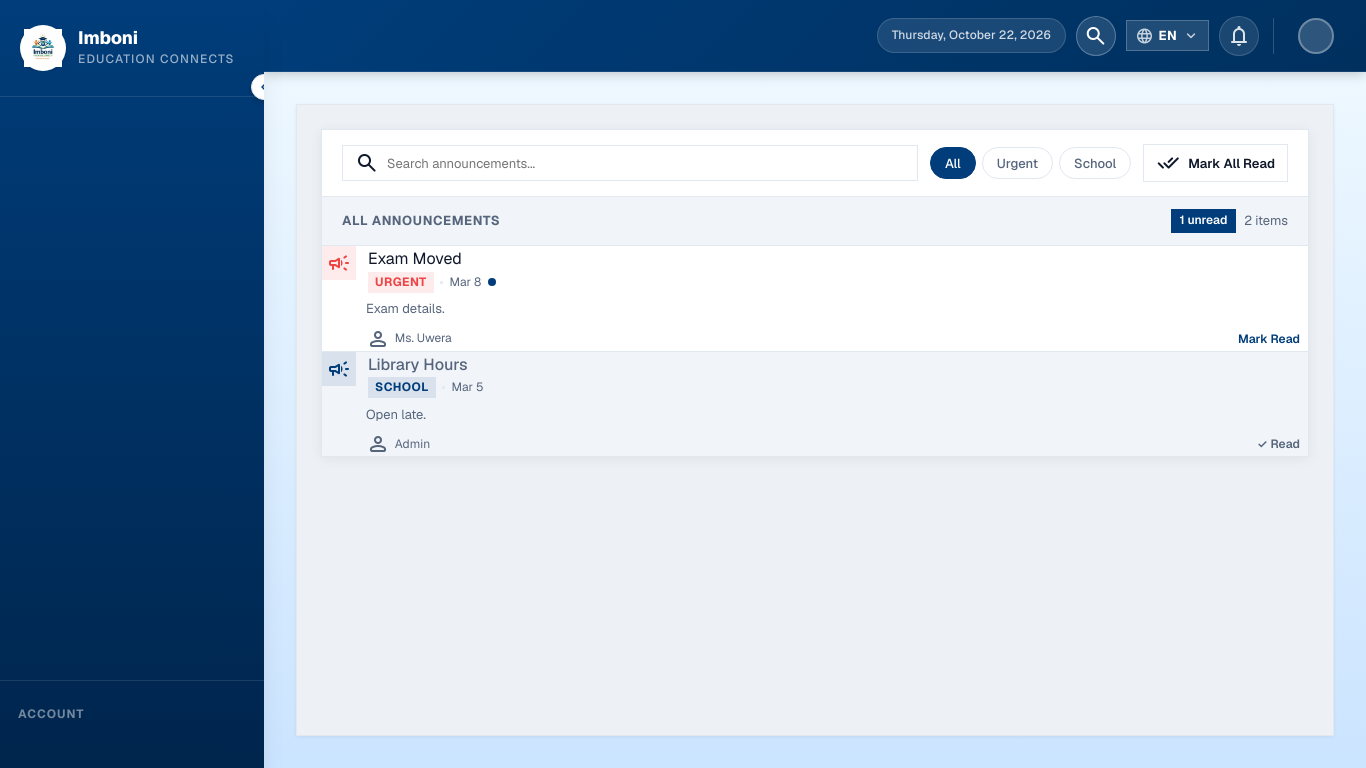
AnnouncementFeed › filters by chip
The image size is (1366, 768).
Click the button "Urgent" at (1017, 163), box [982, 147, 1053, 179]
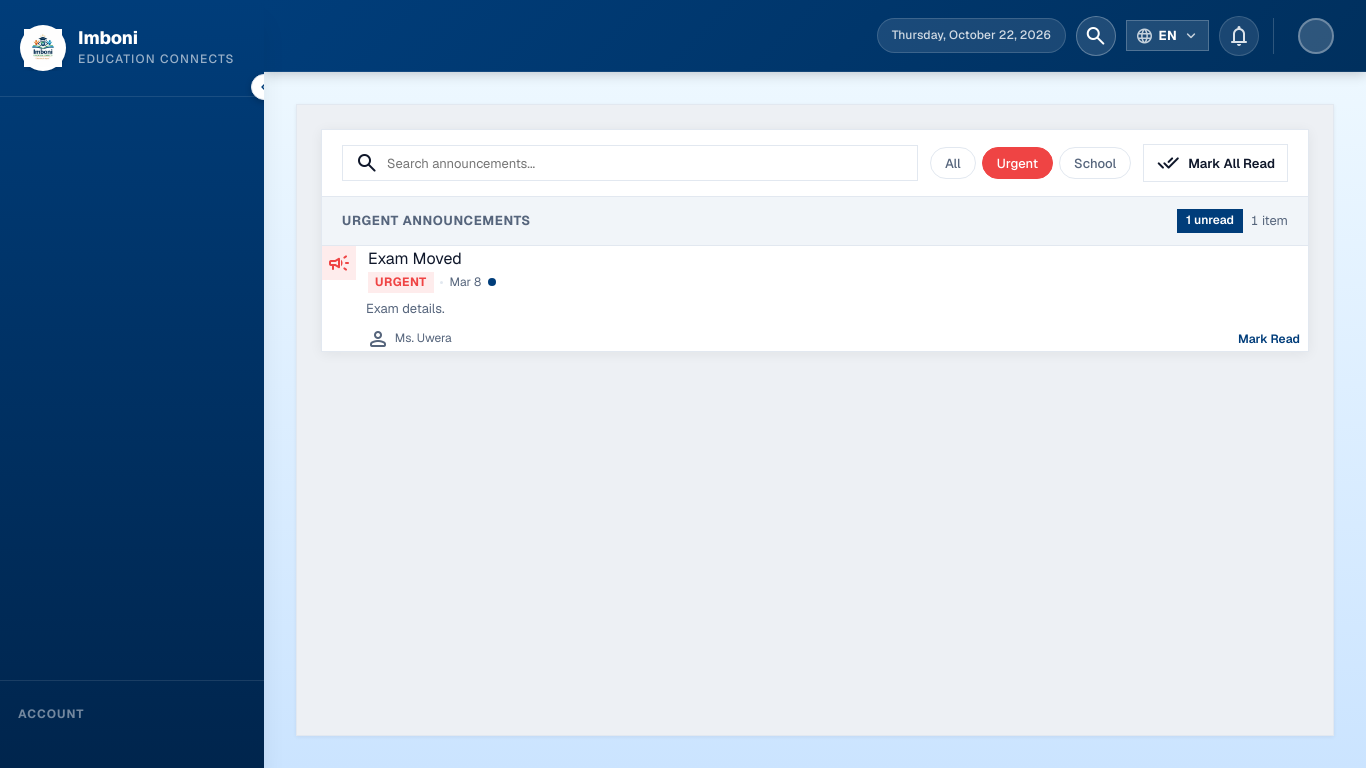
Expected: the text "Exam Moved" is shown, [368, 248, 462, 269]
Now the button "Library Hours" is gone
